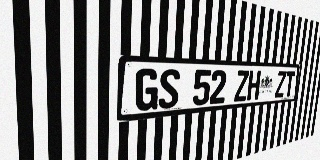2: (209, 70, 227, 104)
5: (193, 69, 211, 106)
G: (135, 68, 159, 112)
H: (247, 70, 261, 101)
S: (158, 69, 180, 109)
T: (284, 71, 295, 97)
Z: (234, 70, 249, 102), (275, 71, 287, 98)
